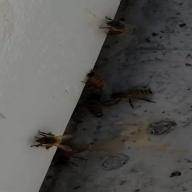Bee: (34, 122, 70, 152)
